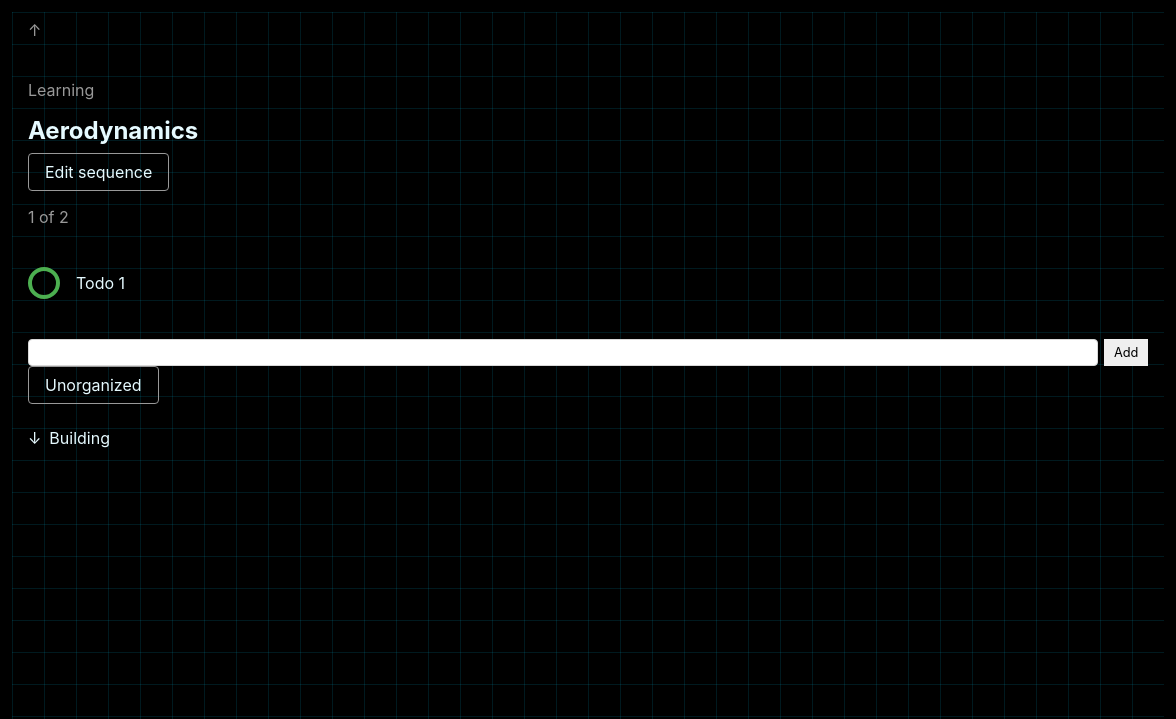
Test case: layer arrows are disabled while a to-do editor is open
Click the button with aria-label "Edit “Todo 1”". click: (101,283)
box: left=76, top=273, right=1148, bottom=293
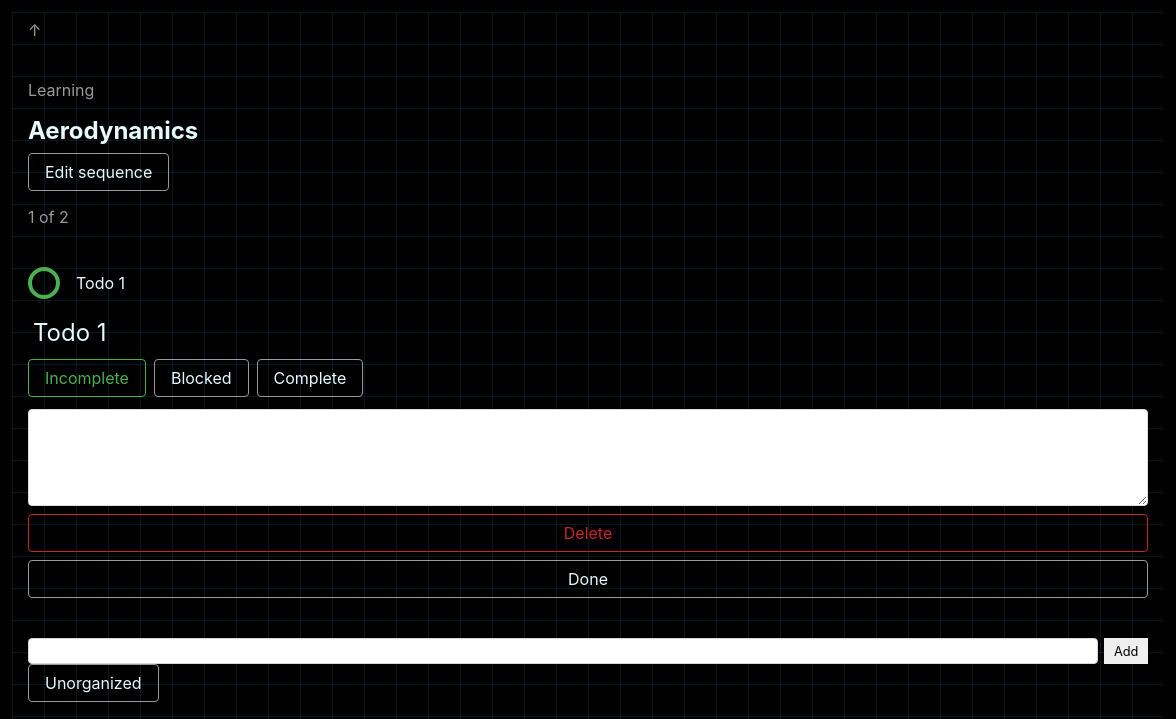
Expected: the button "↑" is disabled, left=12, top=12, right=1164, bottom=48
Click the button "Done". click: (588,579)
box: left=28, top=560, right=1148, bottom=598
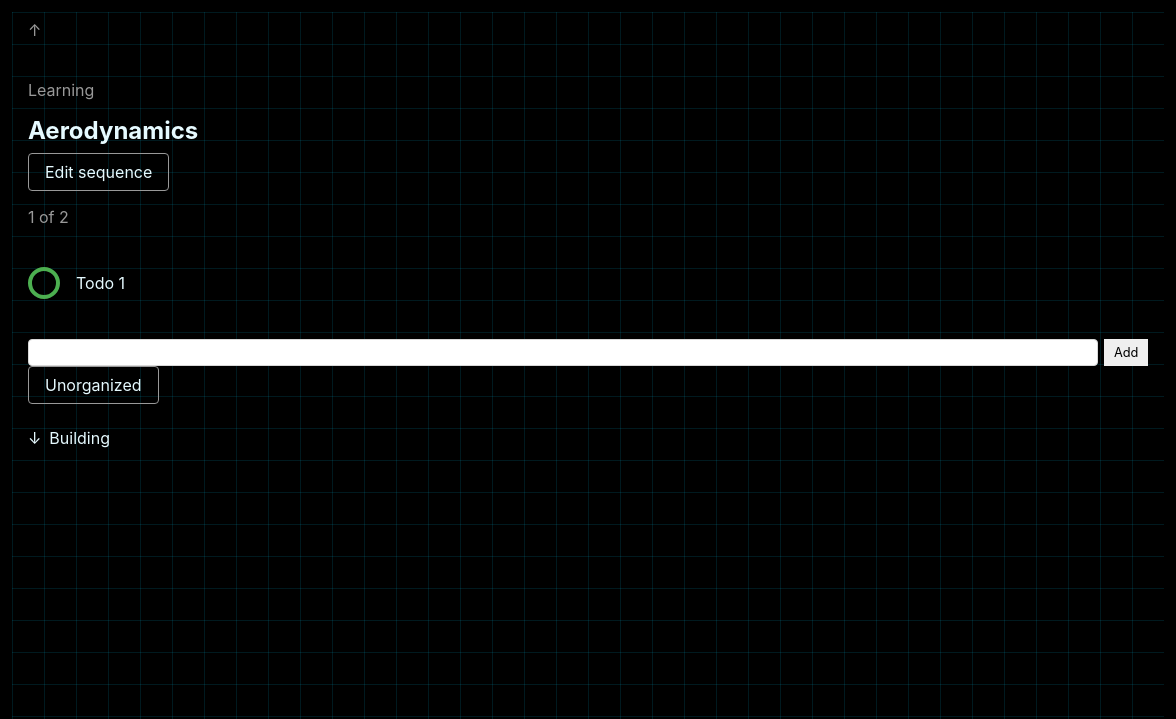
Result: the button "↓ Building" is enabled
Click the button "↓ Building". click: (80,438)
box: left=12, top=420, right=1164, bottom=456
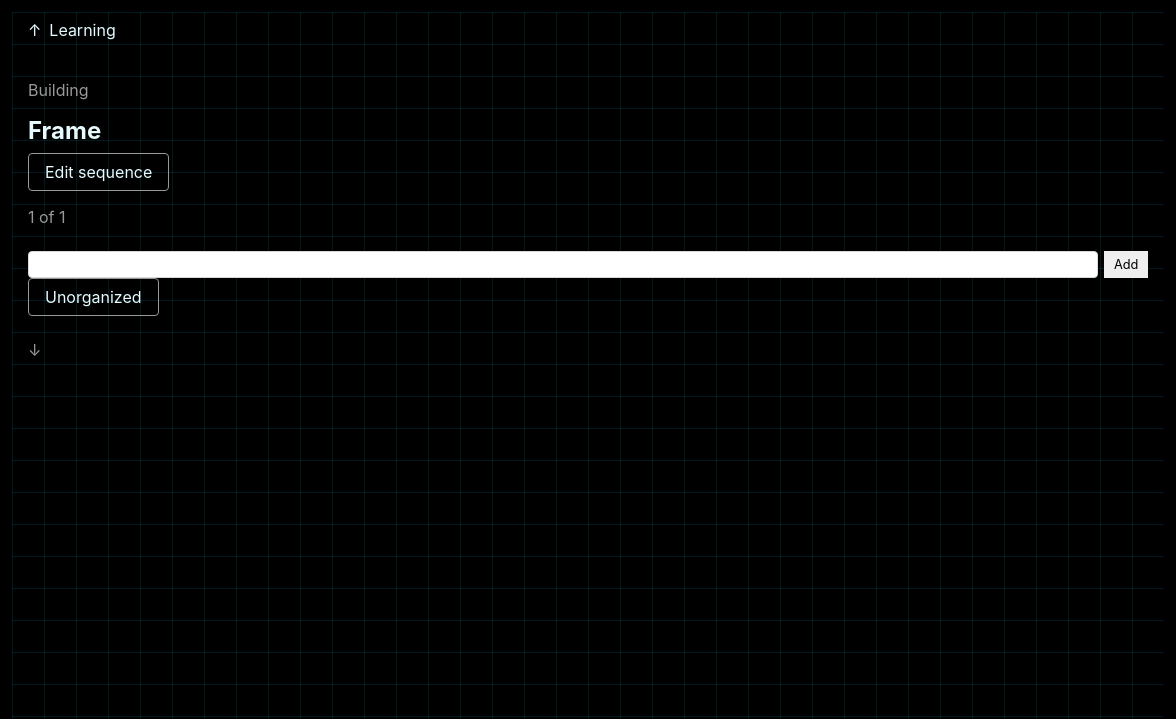
Result: the heading "Frame" is shown at left=28, top=116, right=101, bottom=145
